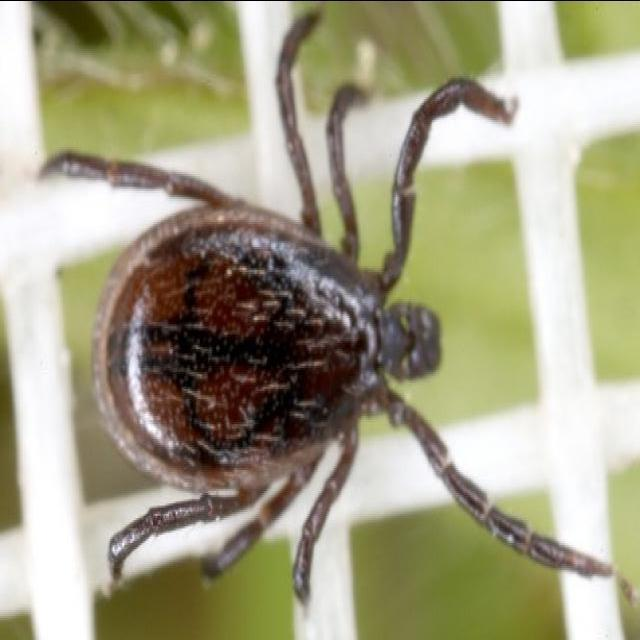Ixodes Ricinus-M: (38, 4, 616, 605)
